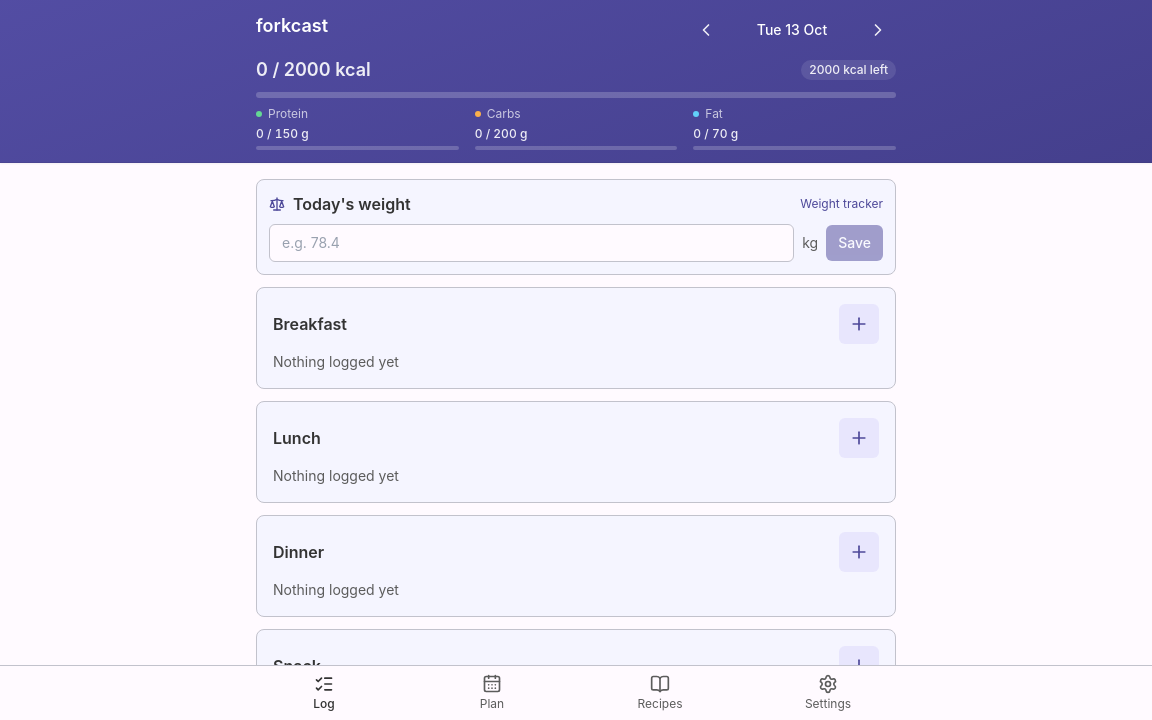
App in English › shows no German UI copy on the week plan and the grocery list
This screenshot has width=1152, height=720.
Click the button "Plan".
click(492, 693)  # box [408, 666, 576, 719]
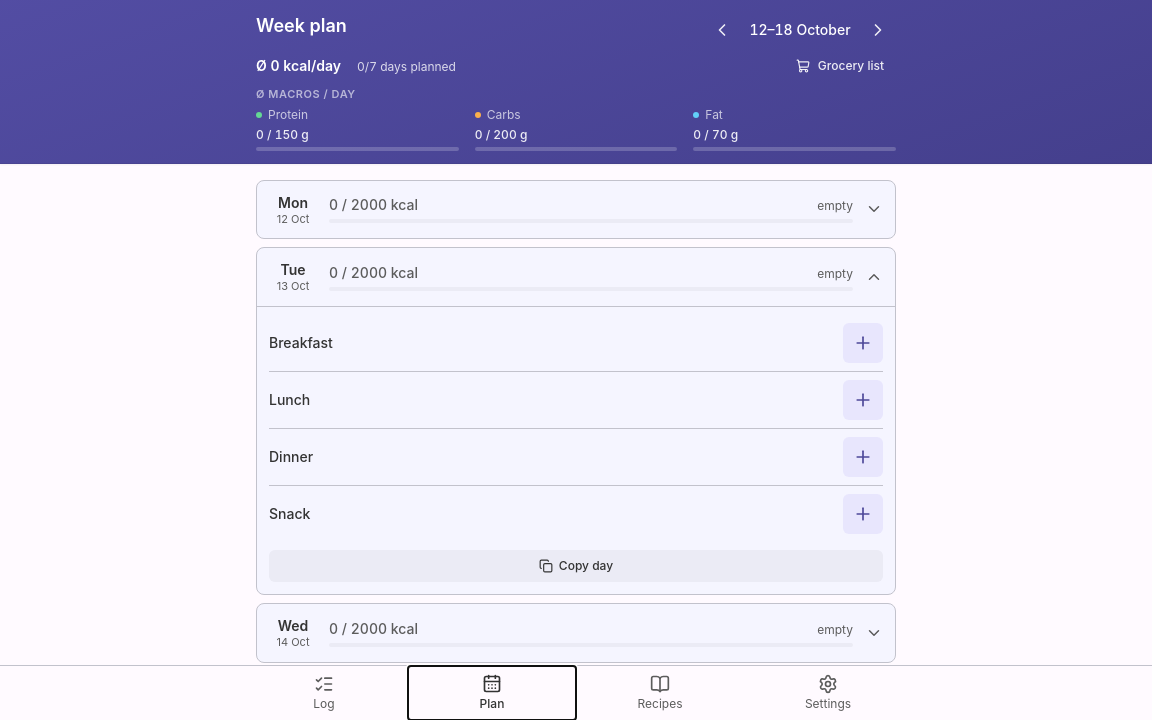
Expected: the heading "Week plan" is shown, [256, 15, 347, 36]
Click the button with aria-label "Grocery list for".
click(840, 66)  # box [784, 54, 896, 78]
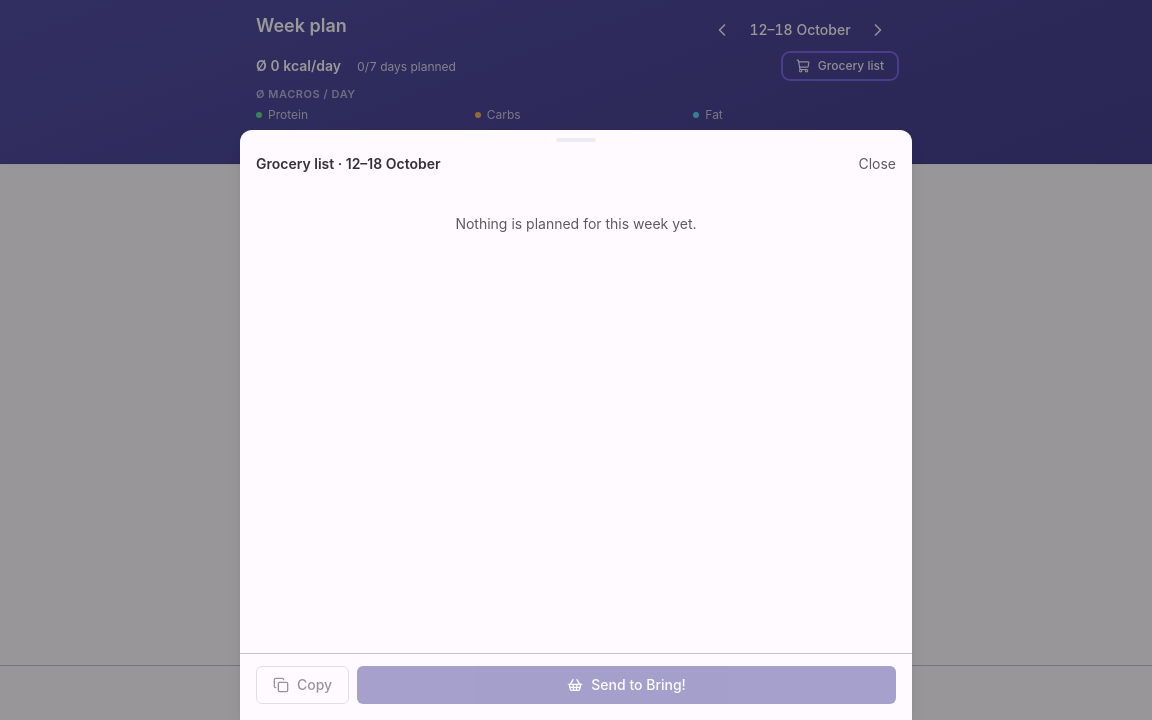
Expected: the dialog is shown, [240, 130, 912, 719]
